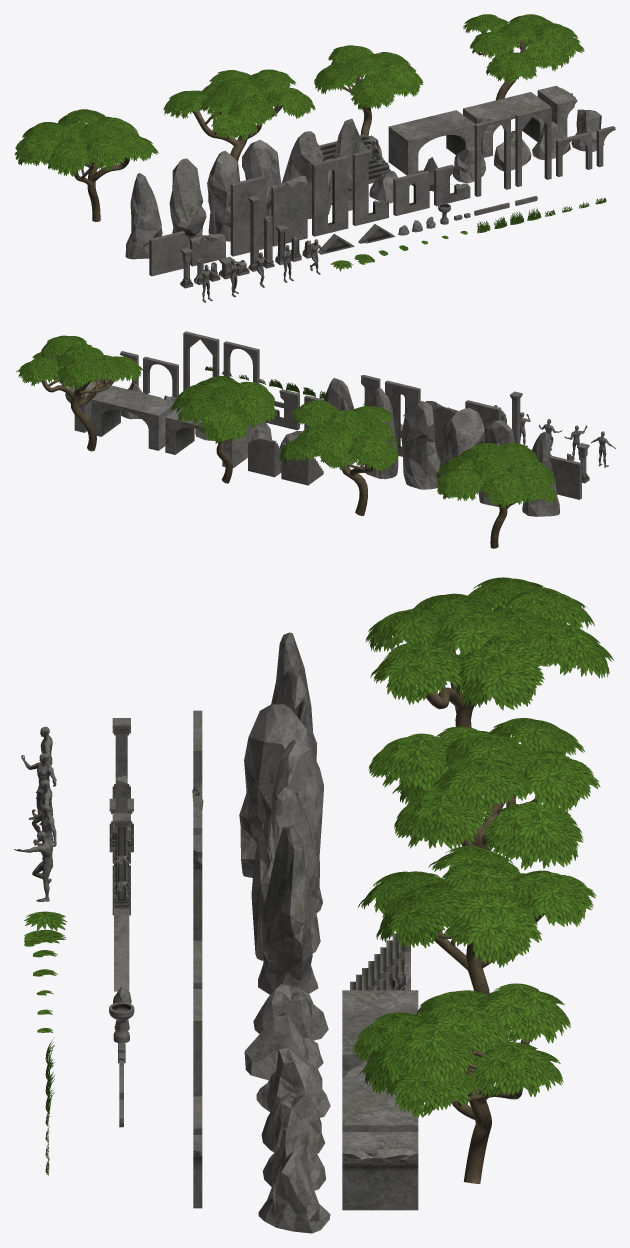
Rendered from Environment_Asset_Pack.fbx.
3 views of the same model, one above another, from view 1: azimuth 30°, elevation 25°; view 2: azimuth 150°, elevation 25°; view 3: azimuth 270°, elevation 25° (orthographic). The views are drawn at different scales.
Parts seen in each view (by area): view 1: TreeA, TreeB, TreeD, TreeC, Stone_Bridge_Arch, Tall_Stone_Wall_Window, Tall_RockB, Stone_Bridge_Arch_Broken, Tall_Stone_Wall_Plain, Tall_Stone_Wall_Plain_Broken, Tall_RockA, Tall_RockC (+20 smaller); view 2: TreeB, TreeA, TreeD, TreeC, Stone_Bridge_Arch_Broken, Tall_RockD, Stone_Bridge_Arch, Tall_RockC, Tall_RockA, Stone_Stairs_Broken, Small_Stone_Wall_Plain, Tall_Stone_Wall_Window (+13 smaller); view 3: TreeB, TreeA, TreeD, TreeC, Tall_RockF, Stone_Bridge_Arch_Very_Broken, Tall_RockC, Tall_RockE, Small_RockF, Stone_Bridge_Arch_Broken, Tall_RockD, Stone_Bridge_Arch (+12 smaller).
Part boxes in pixels (<box>): TreeA: <box>15,109,158,221</box>; TreeB: <box>163,69,315,161</box>; TreeD: <box>463,14,584,100</box>; TreeC: <box>314,45,423,135</box>; Stone_Bridge_Arch: <box>388,110,475,175</box>; Tall_Stone_Wall_Window: <box>312,156,348,236</box>; Tall_RockB: <box>169,158,206,248</box>; Stone_Bridge_Arch_Broken: <box>463,92,550,157</box>; Tall_Stone_Wall_Plain: <box>230,175,266,256</box>; Tall_Stone_Wall_Plain_Broken: <box>271,176,307,246</box>; Tall_RockA: <box>125,173,162,259</box>; Tall_RockC: <box>207,150,240,241</box>; TreeB: <box>279,400,398,515</box>; TreeA: <box>436,443,556,548</box>; TreeD: <box>16,335,143,451</box>; TreeC: <box>171,376,276,483</box>; Stone_Bridge_Arch_Broken: <box>91,385,173,450</box>; Tall_RockD: <box>401,401,440,489</box>; Stone_Bridge_Arch: <box>165,407,251,468</box>; Tall_RockC: <box>437,408,485,497</box>; Tall_RockA: <box>522,431,559,516</box>; Stone_Stairs_Broken: <box>248,438,281,477</box>; Small_Stone_Wall_Plain: <box>550,455,581,499</box>; Tall_Stone_Wall_Window: <box>385,380,420,456</box>; TreeB: <box>368,718,600,870</box>; TreeA: <box>365,577,613,727</box>; TreeD: <box>352,983,570,1183</box>; TreeC: <box>358,846,596,994</box>; Tall_RockF: <box>258,826,318,994</box>; Stone_Bridge_Arch_Very_Broken: <box>342,1132,418,1210</box>; Tall_RockC: <box>239,704,311,877</box>; Tall_RockE: <box>251,786,320,960</box>; Small_RockF: <box>258,1144,330,1233</box>; Stone_Bridge_Arch_Broken: <box>342,1061,418,1131</box>; Tall_RockD: <box>271,739,323,913</box>; Stone_Bridge_Arch: <box>342,990,418,1074</box>.
Bounding box in the file's own units: 402 × 74.24 × 198.
